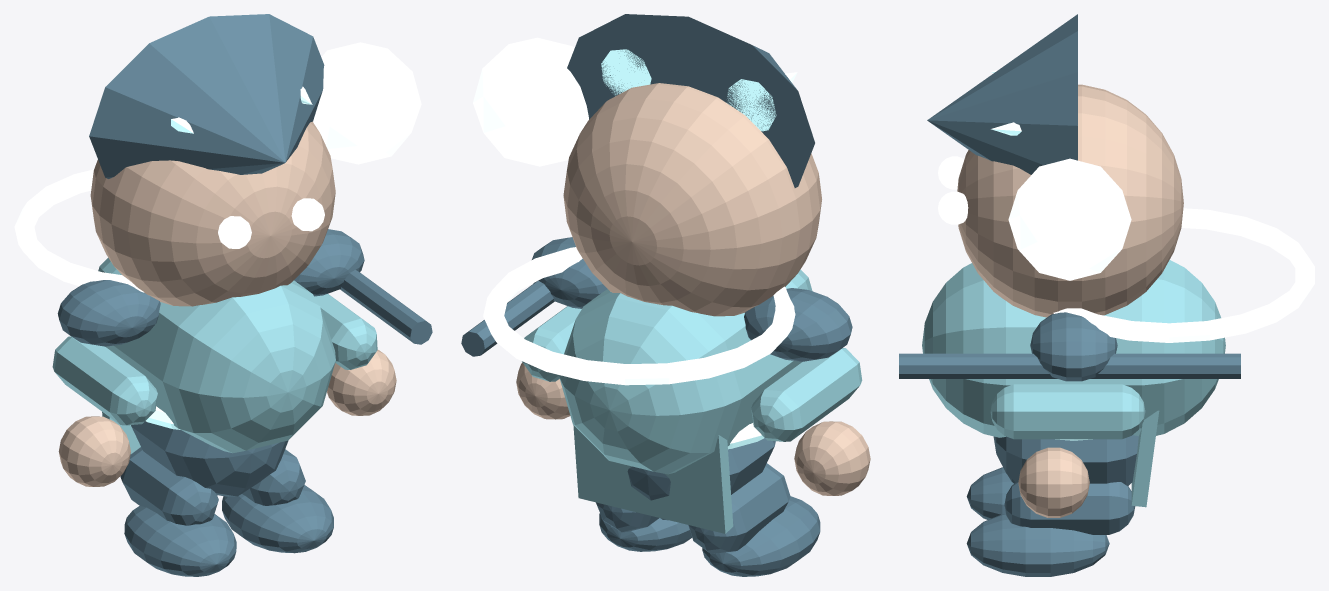
The model's file is guardian-frost-sd-toon.glb.
3 renders of one model, left to right at view 1: azimuth 30°, elevation 25°; view 2: azimuth 150°, elevation 25°; view 3: azimuth 270°, elevation 25°, orthographic. The views are drawn at different scales.
Visible parts, largest first — view 1: hood, head, body, signature, pelvis, armL, footL, shoulderL, footR, legL, handL, halo (+7 smaller); view 2: head, body, hood, signature, halo, cloth, armL, shoulderL, footL, handL, legL, pelvis (+8 smaller); view 3: head, body, hood, signature, armR, halo, weapon, footR, shoulderR, pelvis, handR, legR (+4 smaller).
Part boxes in pixels (left/top/right/bottom): hood: left=89, top=14, right=324, bottom=178; head: left=90, top=121, right=335, bottom=306; body: left=98, top=257, right=335, bottom=453; signature: left=313, top=42, right=421, bottom=164; pelvis: left=131, top=421, right=288, bottom=496; armL: left=52, top=336, right=157, bottom=425; footL: left=124, top=506, right=236, bottom=576; shoulderL: left=57, top=280, right=160, bottom=346; footR: left=222, top=485, right=333, bottom=553; legL: left=120, top=447, right=218, bottom=525; handL: left=58, top=416, right=130, bottom=486; halo: left=14, top=169, right=144, bottom=292; head: left=563, top=83, right=821, bottom=316; body: left=559, top=269, right=812, bottom=474; hood: left=567, top=14, right=814, bottom=187; signature: left=473, top=37, right=588, bottom=166; halo: left=483, top=247, right=795, bottom=385; cloth: left=573, top=425, right=733, bottom=533; armL: left=751, top=348, right=862, bottom=441; shoulderL: left=744, top=288, right=852, bottom=361; footL: left=702, top=496, right=820, bottom=576; handL: left=794, top=421, right=870, bottom=495; legL: left=688, top=463, right=790, bottom=553; pelvis: left=627, top=438, right=775, bottom=520; head: left=957, top=84, right=1183, bottom=317; body: left=922, top=260, right=1225, bottom=437; hood: left=927, top=14, right=1077, bottom=174; signature: left=1008, top=158, right=1131, bottom=280; armR: left=990, top=384, right=1145, bottom=439; halo: left=1053, top=208, right=1314, bottom=342; weapon: left=899, top=353, right=1240, bottom=378; footR: left=966, top=513, right=1109, bottom=576; shoulderR: left=1030, top=312, right=1117, bottom=381; pelvis: left=993, top=435, right=1138, bottom=485; handR: left=1018, top=447, right=1089, bottom=517; legR: left=1004, top=481, right=1135, bottom=534.
Size of the model in its own units: 2.05 by 2.86 by 2.09.
